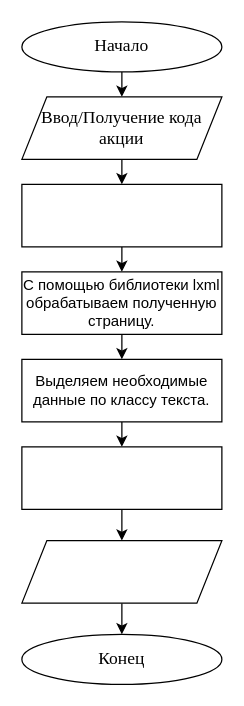
The diagram is 244 pixels wide and 706 high, and some of its shapes have lost their labels. Each missing label, with the centre of its shape:
Массив с форматированными данными: (121,571)
Отправка запроса на сайт с кодом акции.: (121,215)
Форматируем данные к необходимому виду: (121,477)
